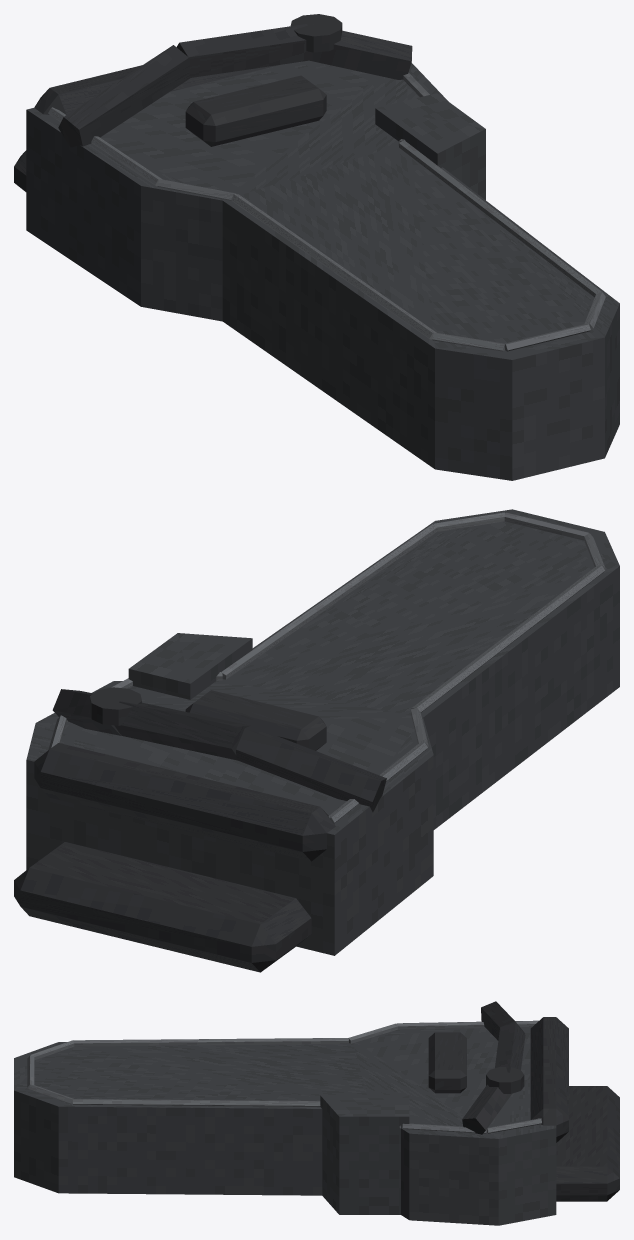
Rendered from nylon_holster.glb.
3 renders of one model, top to bottom at view 1: azimuth 30°, elevation 25°; view 2: azimuth 150°, elevation 25°; view 3: azimuth 270°, elevation 25°, orthographic. The views are drawn at different scales.
Visible parts, largest first — view 1: block_molded holster body, block_plastic retention buckle, block_trigger guard bulge, block_thumb-break strap 0, block_thumb-break strap 1, block_thumb-break strap 2, block_holster mouth, block_edge stitching 4, block_edge stitching 8, block_strap snap, block_edge stitching 10, block_edge stitching 6 (+2 smaller); view 2: block_molded holster body, block_belt loop, block_holster mouth, block_thumb-break strap 0, block_trigger guard bulge, block_thumb-break strap 1, block_plastic retention buckle, block_edge stitching 4, block_edge stitching 8, block_strap snap, block_thumb-break strap 2, block_edge stitching 10 (+2 smaller); view 3: block_molded holster body, block_trigger guard bulge, block_belt loop, block_holster mouth, block_plastic retention buckle, block_edge stitching 8, block_edge stitching 4, block_thumb-break strap 2, block_thumb-break strap 1, block_strap snap, block_thumb-break strap 0, block_edge stitching 10 (+3 smaller).
Part boxes in pixels (bbox=[...]): block_molded holster body: bbox=[26, 60, 619, 480]; block_plastic retention buckle: bbox=[185, 75, 326, 146]; block_trigger guard bulge: bbox=[375, 93, 485, 199]; block_thumb-break strap 0: bbox=[58, 45, 190, 147]; block_thumb-break strap 1: bbox=[176, 24, 312, 77]; block_thumb-break strap 2: bbox=[310, 24, 412, 79]; block_holster mouth: bbox=[34, 64, 280, 114]; block_edge stitching 4: bbox=[399, 140, 604, 297]; block_edge stitching 8: bbox=[231, 194, 436, 339]; block_strap snap: bbox=[290, 14, 342, 52]; block_edge stitching 10: bbox=[48, 107, 162, 186]; block_edge stitching 6: bbox=[505, 324, 590, 351]; block_molded holster body: bbox=[26, 509, 619, 955]; block_belt loop: bbox=[14, 842, 311, 972]; block_holster mouth: bbox=[34, 743, 335, 861]; block_thumb-break strap 0: bbox=[236, 726, 386, 812]; block_trigger guard bulge: bbox=[128, 633, 252, 699]; block_thumb-break strap 1: bbox=[114, 701, 250, 760]; block_plastic retention buckle: bbox=[185, 690, 326, 750]; block_edge stitching 4: bbox=[221, 524, 436, 679]; block_edge stitching 8: bbox=[411, 565, 604, 712]; block_strap snap: bbox=[90, 687, 141, 725]; block_thumb-break strap 2: bbox=[52, 689, 121, 735]; block_edge stitching 10: bbox=[328, 742, 427, 823]; block_molded holster body: bbox=[14, 1020, 556, 1225]; block_trigger guard bulge: bbox=[320, 1095, 409, 1214]; block_belt loop: bbox=[556, 1086, 619, 1201]; block_holster mouth: bbox=[530, 1017, 568, 1142]; block_plastic retention buckle: bbox=[428, 1032, 466, 1093]; block_edge stitching 8: bbox=[73, 1038, 348, 1046]; block_edge stitching 4: bbox=[73, 1099, 320, 1106]; block_thumb-break strap 2: bbox=[462, 1084, 511, 1134]; block_thumb-break strap 1: bbox=[495, 1023, 525, 1072]; block_strap snap: bbox=[486, 1067, 524, 1093]; block_thumb-break strap 0: bbox=[481, 1001, 525, 1040]; block_edge stitching 10: bbox=[397, 1021, 538, 1029].
Bounding box in the file's own units: 0.0746 × 0.0369 × 0.1587.
Materials: 2 (2 with a texture image).
